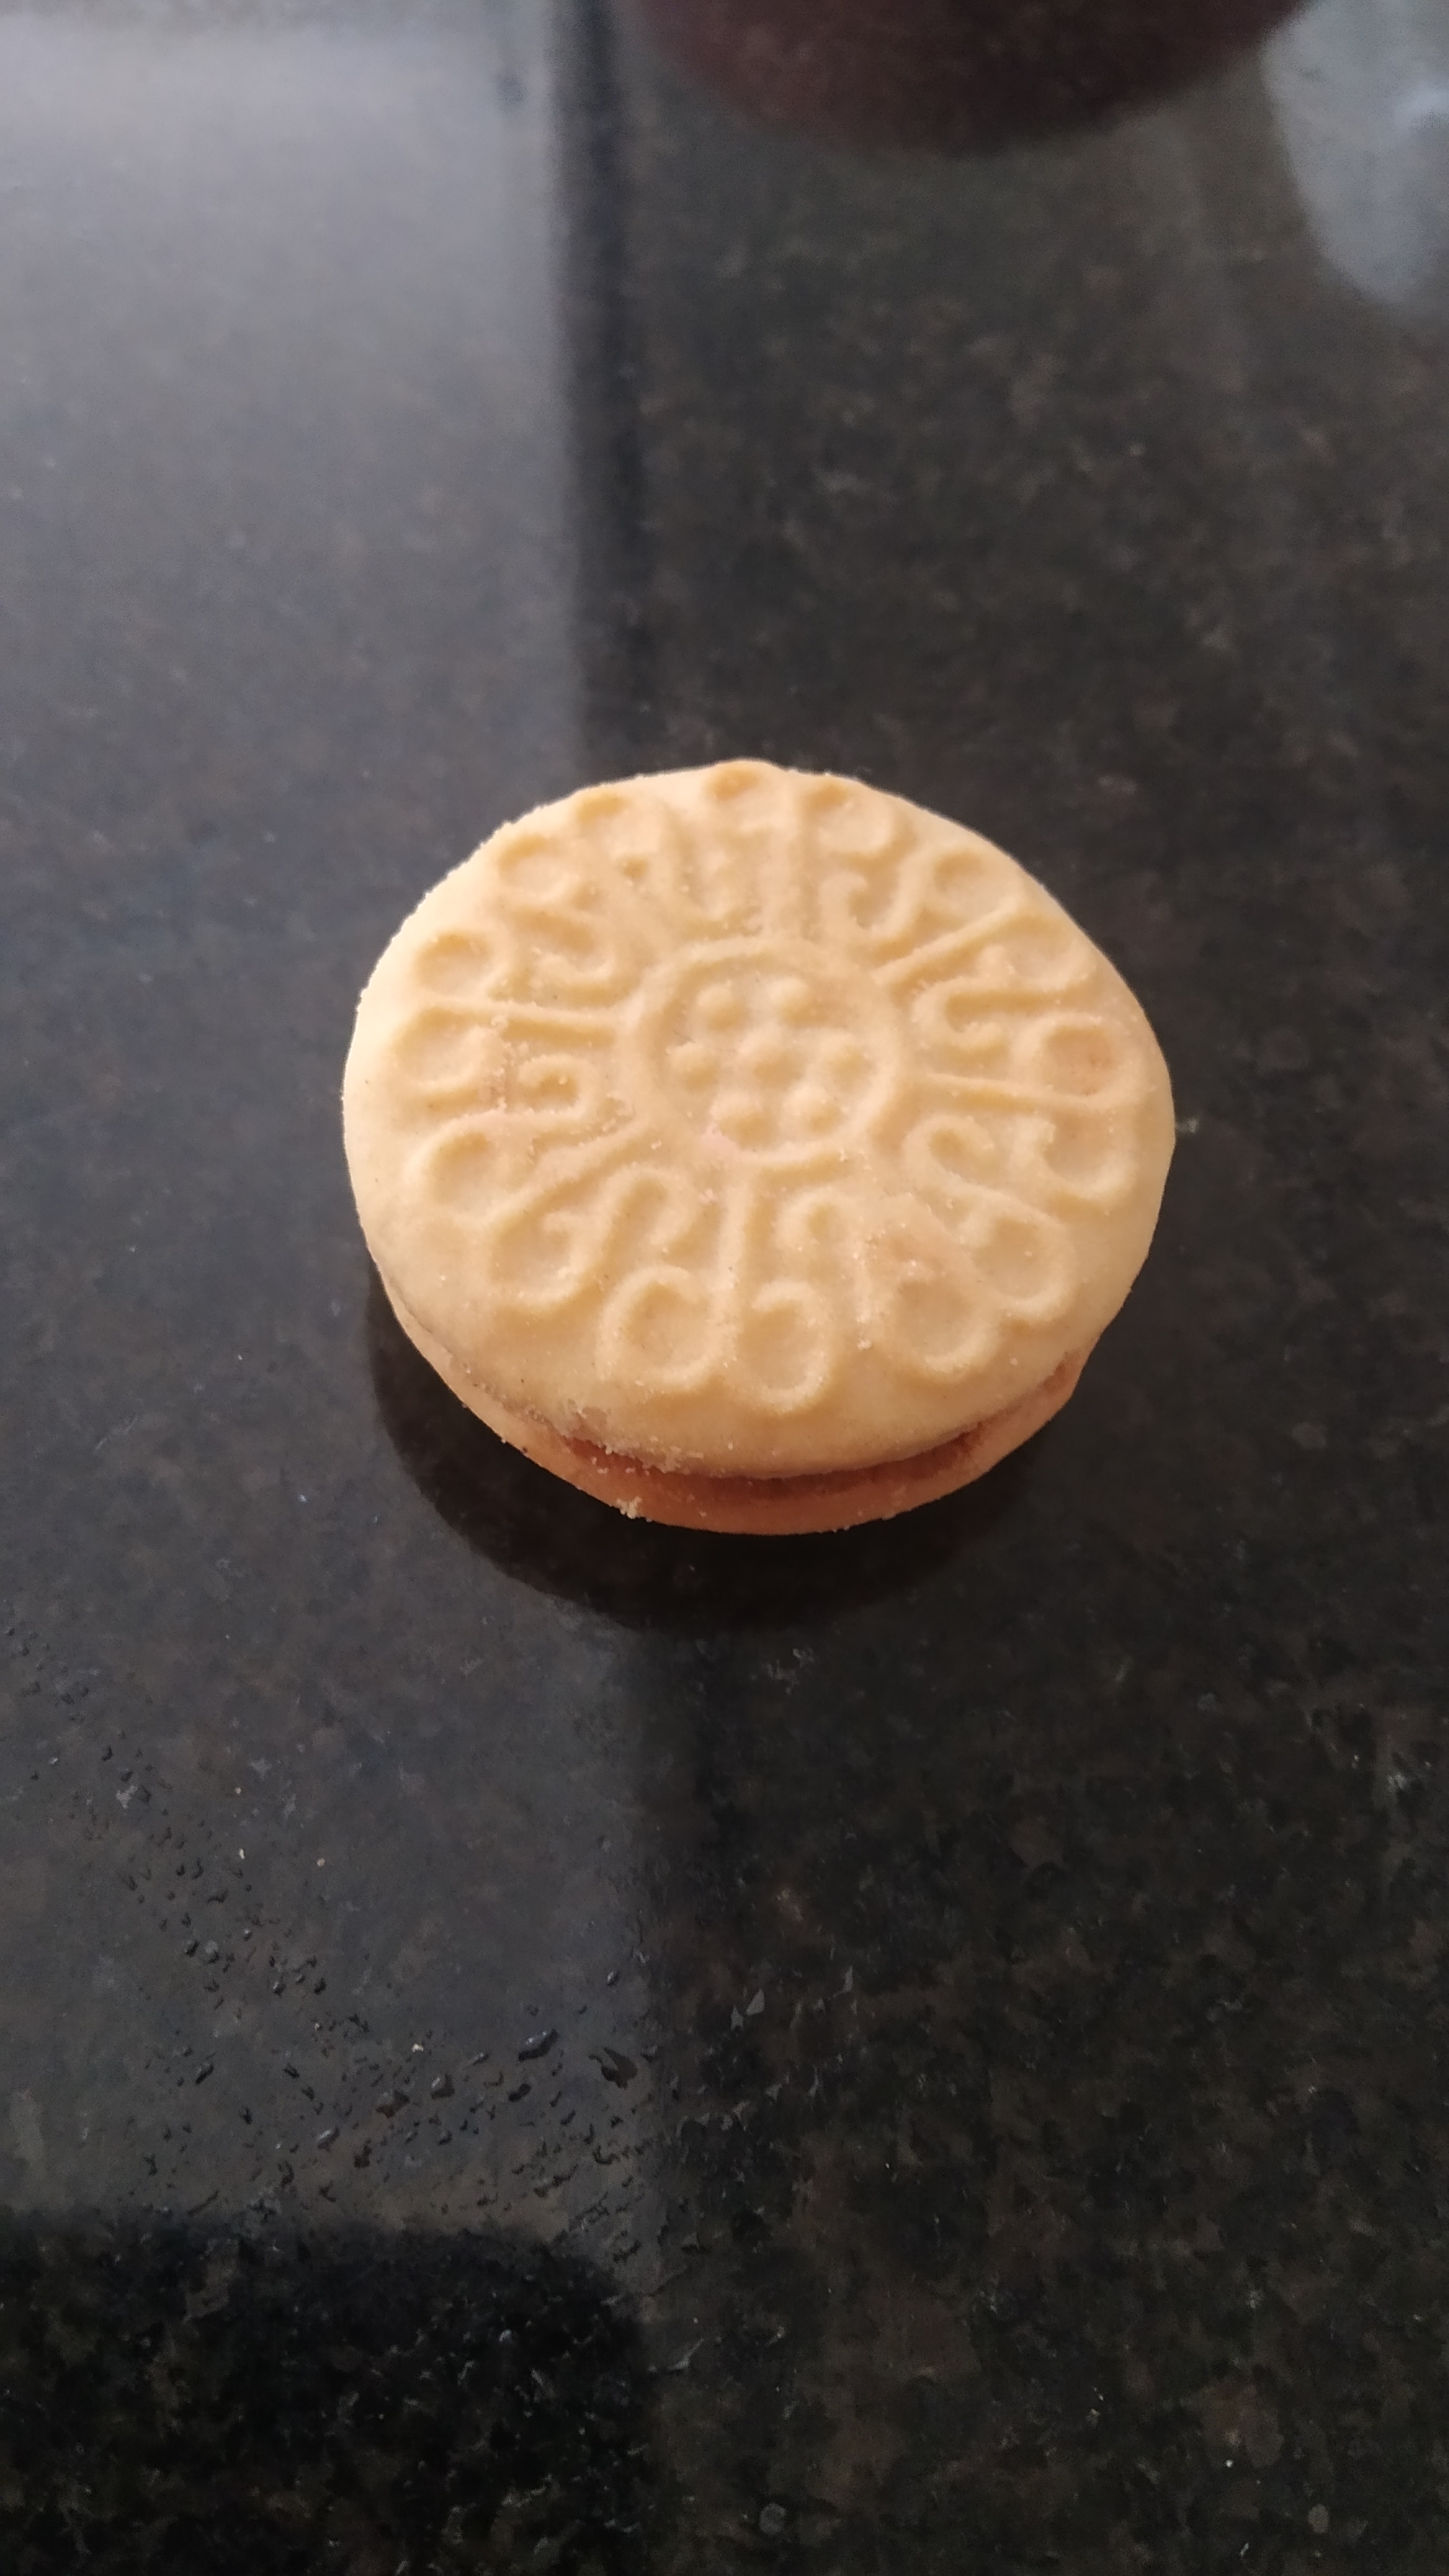lulu: (341, 763, 1175, 1539)
